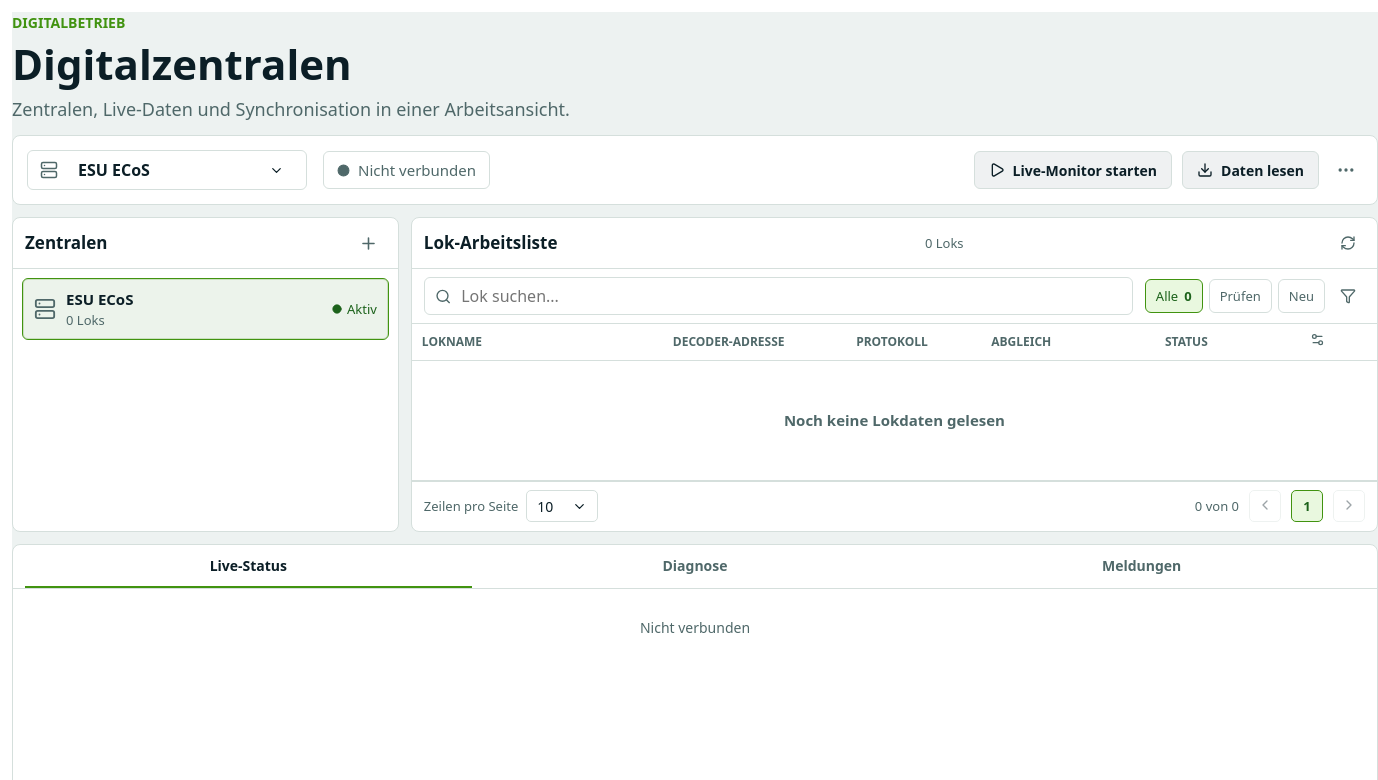
Test case: Digital Centers operational journeys › shows safe diagnosis fields and actionable station messages
This screenshot has width=1378, height=780.
What coordinates should you click on to do the following:
click the button "Daten lesen"
I would click on:
 (1250, 170)
Its box is [1182,151,1319,189].
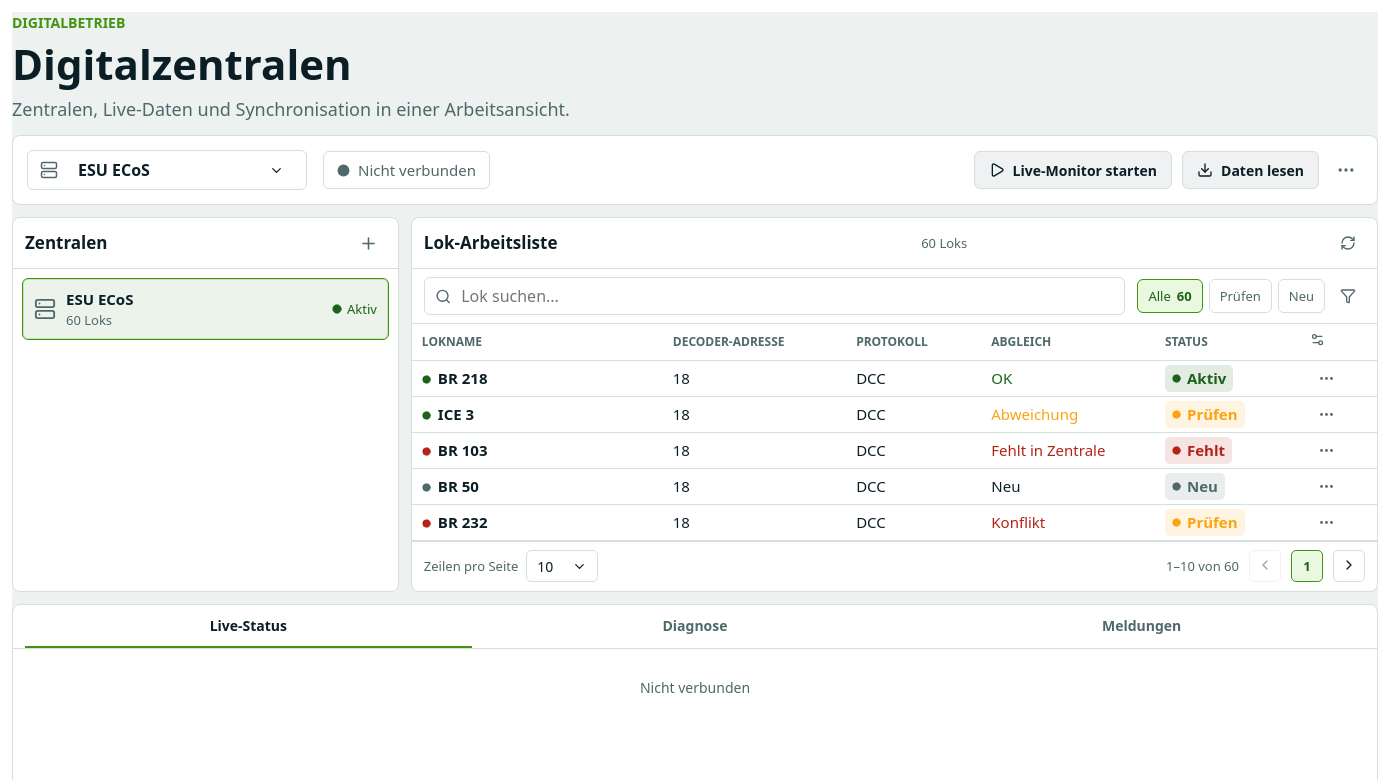
What coordinates should you click on to do the following:
click the tab "Diagnose"
I would click on:
 (695, 626)
Its box is [472,605,918,648].
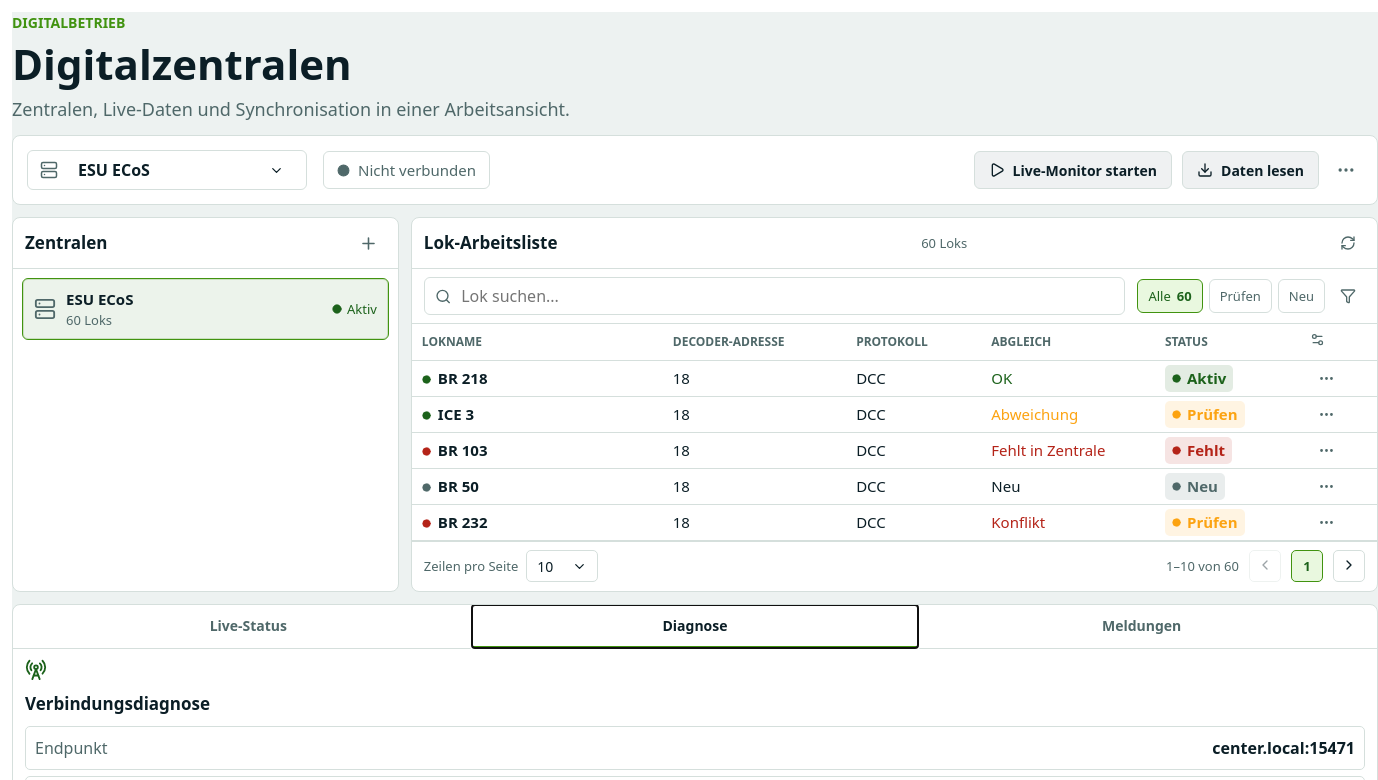
What coordinates should you click on to do the following:
click the tab "Meldungen"
I would click on:
 (1142, 626)
Its box is [918,605,1365,648].
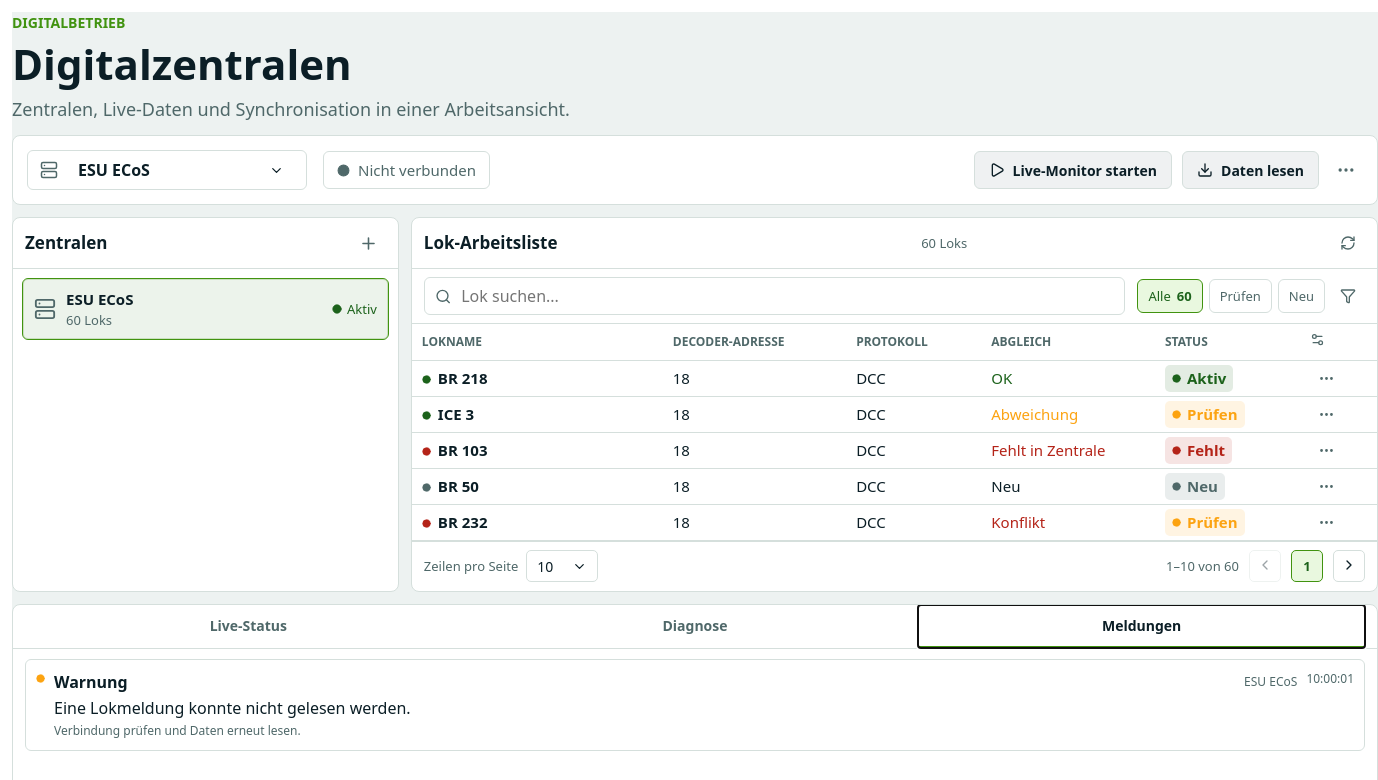
Now the text "10:00:01" is shown, box [1306,670,1354,688]
Now the text "Eine Lokmeldung konnte nicht gelesen werden." is shown, box [54,697,411,719]
Now the text "Verbindung prüfen und Daten erneut lesen." is shown, box [54,722,301,739]
